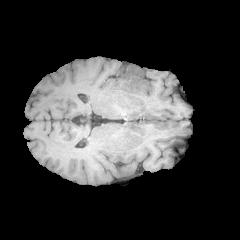glioma: (109, 62, 148, 96)
